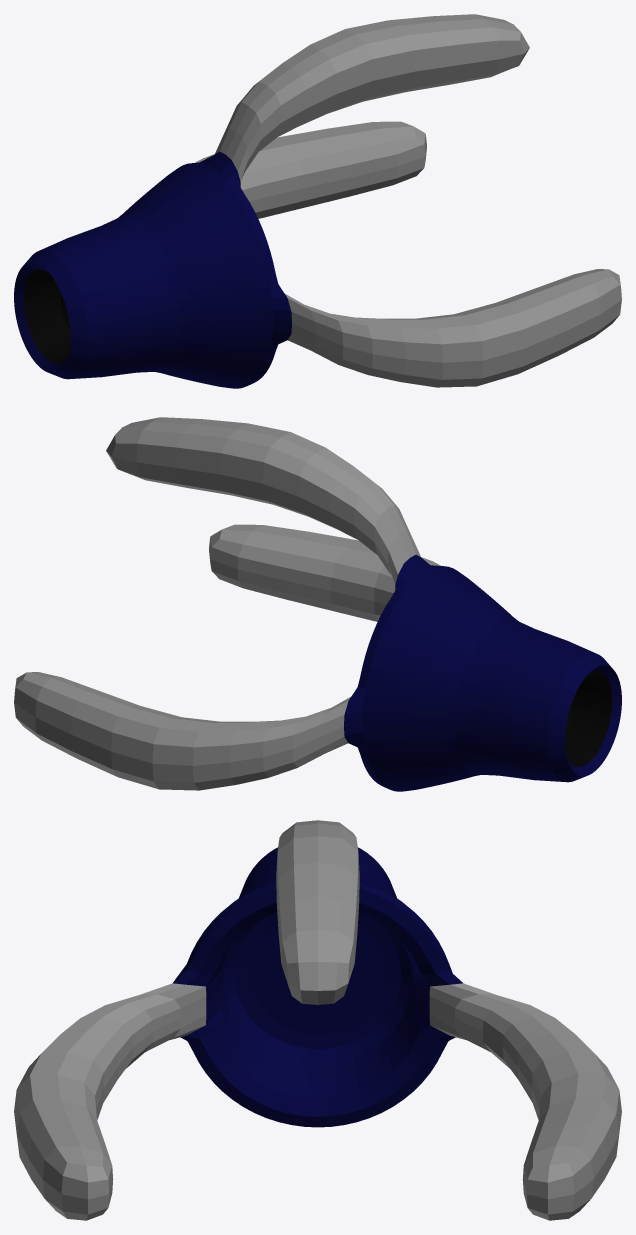
The model's file is EnemyWeapon1.fbx.
3 renders of one model, top to bottom at view 1: azimuth 30°, elevation 25°; view 2: azimuth 150°, elevation 25°; view 3: azimuth 270°, elevation 25°, orthographic. The views are drawn at different scales.
Parts seen in each view (by area): view 1: Cylinder; view 2: Cylinder; view 3: Cylinder.
Boxes of the visible parts, x1,y1,x2,y2 form: Cylinder: (14,14,621,388); Cylinder: (14,417,621,791); Cylinder: (14,820,621,1220).
Bounding box in the file's own units: 802 × 496 × 739.
